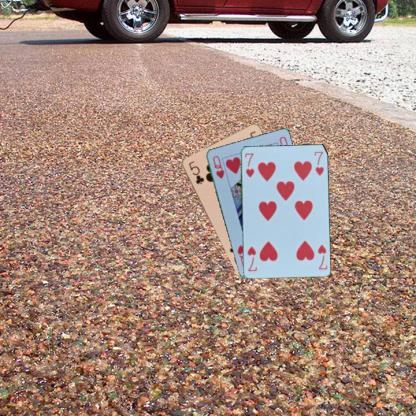5c: (186, 158, 205, 186)
7h: (315, 242, 328, 270), (242, 151, 255, 178)
Qh: (210, 153, 225, 180)
